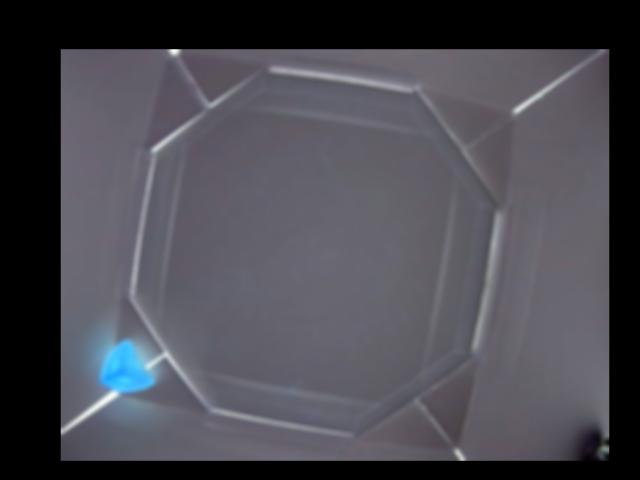Carrot: (101, 339, 155, 393)
